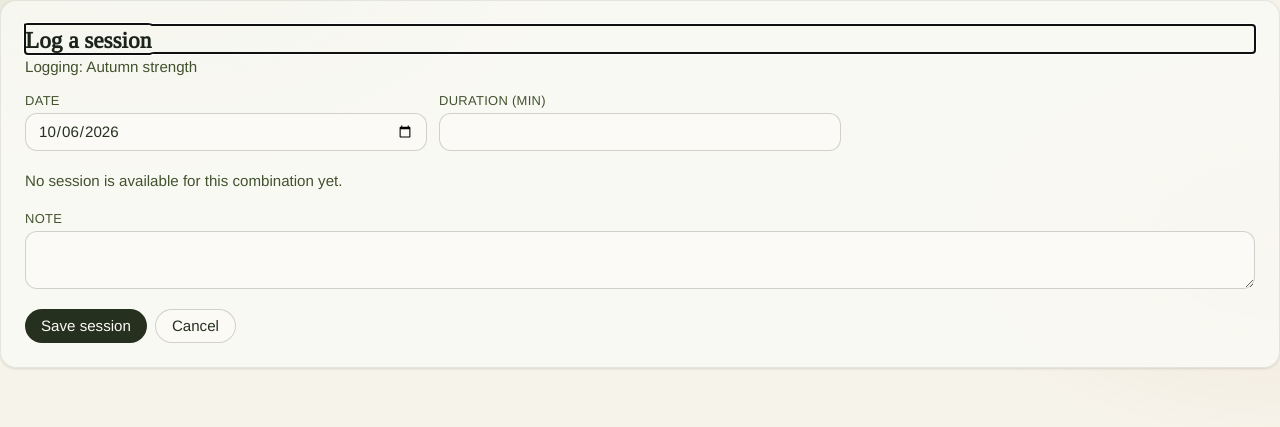
it: <SessionLogger> › refuses to save with no sets at all (template hidden)
Expected: the text "No session is available for this combination yet." is shown, [25,172,342,189]
Click the button "Save session" at (86, 326), box [25,309,147,343]
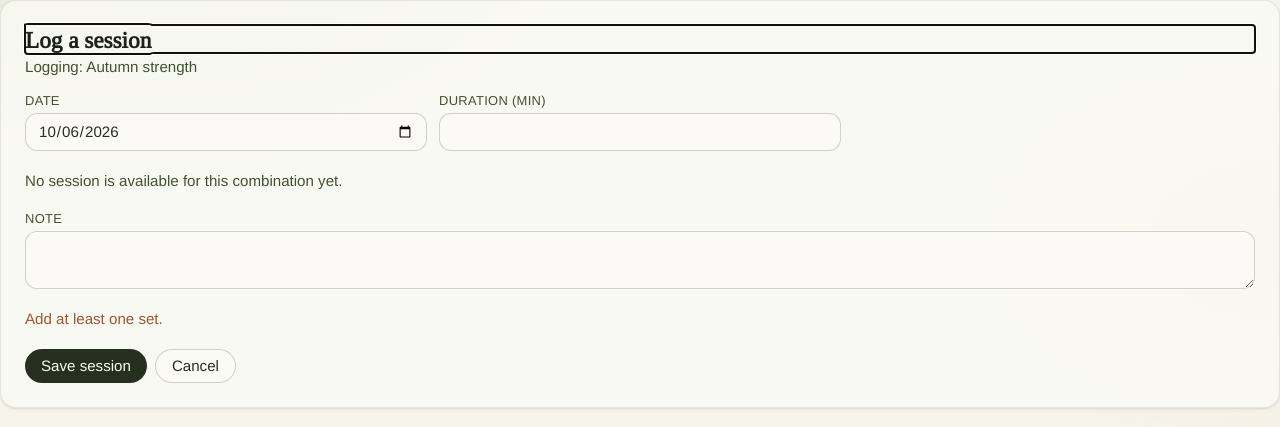
Expected: the message reads "Add at least one set.", [25,310,163,327]
